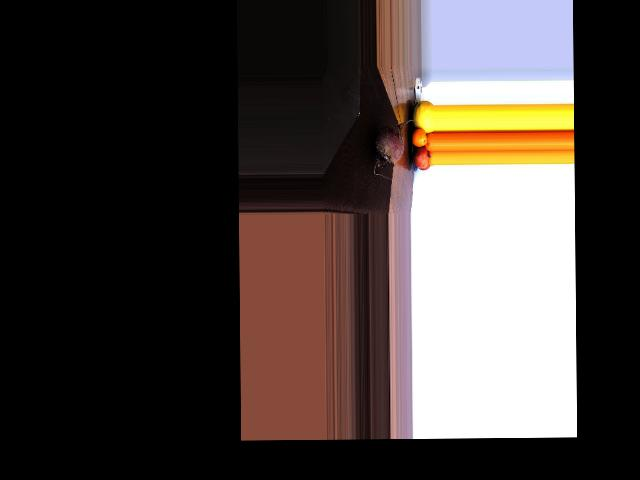beet: (373, 119, 418, 179)
